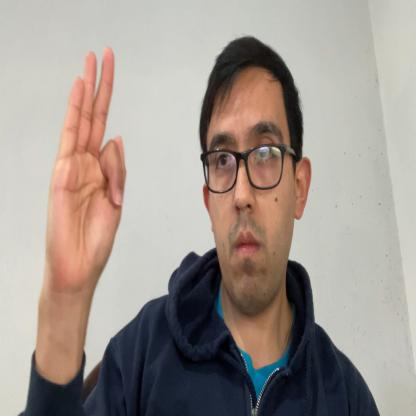F: (44, 46, 126, 278)
